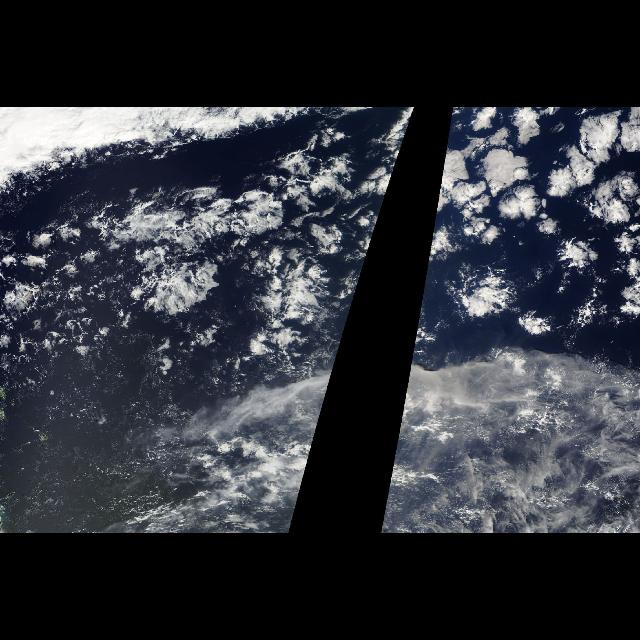Flower: (109, 107, 415, 360), (410, 108, 640, 366)
Sugar: (1, 350, 340, 532), (380, 350, 640, 532)
